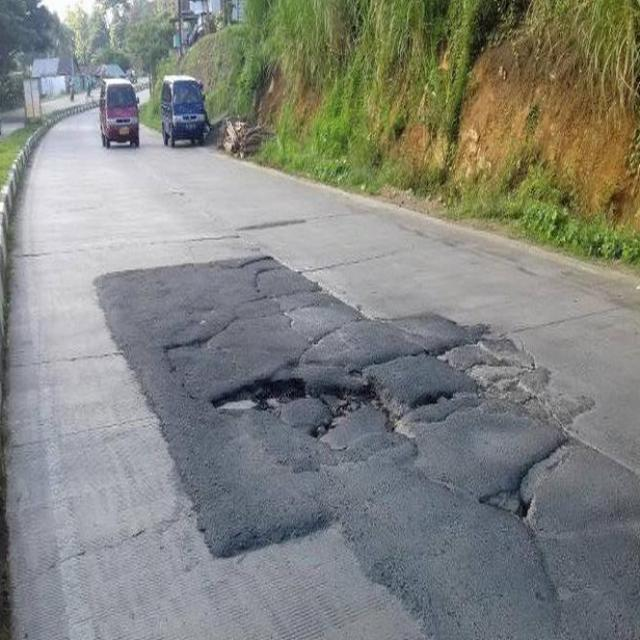Sambungan: (93, 249, 640, 640)
